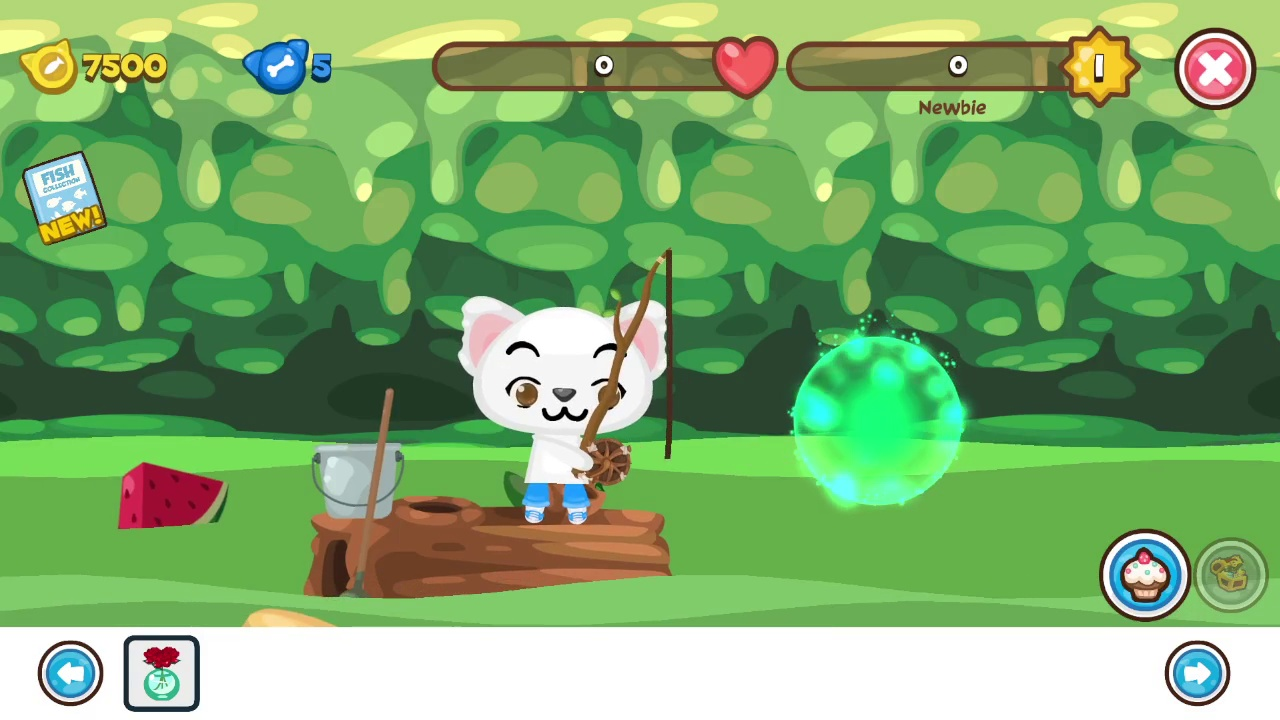point: (790, 336, 962, 510)
